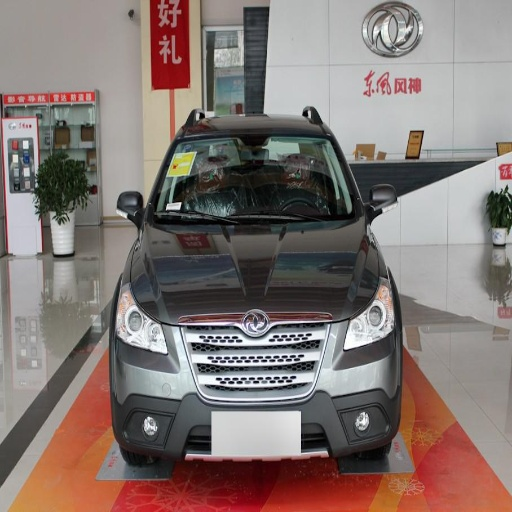front_bumper: (112, 311, 398, 461)
front_glass: (150, 131, 359, 221)
front_right_light: (117, 278, 170, 354)
hood: (139, 220, 376, 336)
